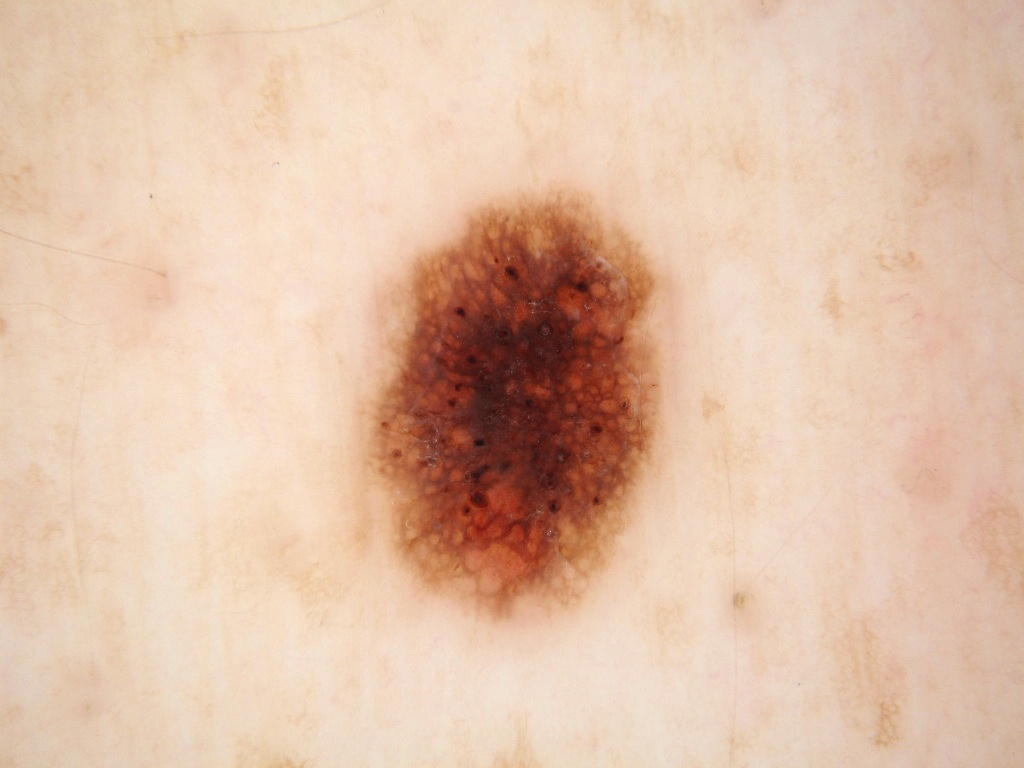Detected Lesion: (359, 176, 671, 634)
